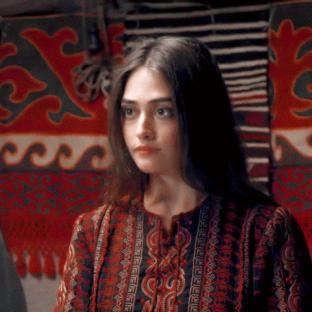Human: (55, 37, 312, 312)
